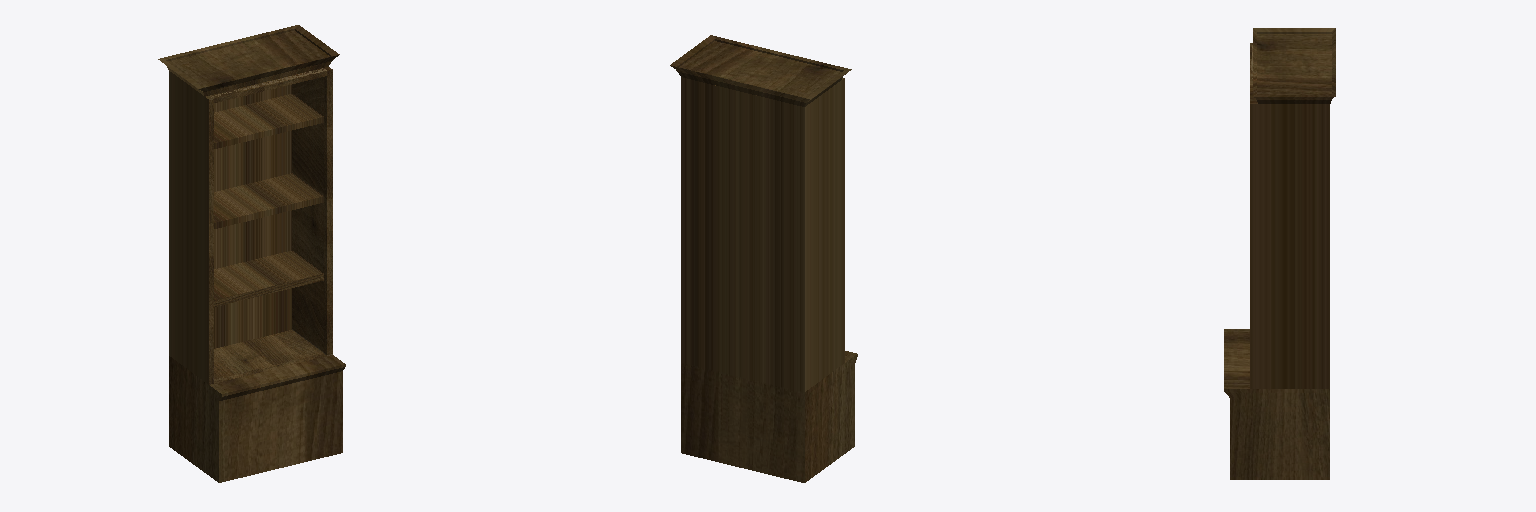
The picture shows the model from 3 angles: view 1: azimuth 30°, elevation 25°; view 2: azimuth 150°, elevation 25°; view 3: azimuth 270°, elevation 25°; orthographic projection.
Visible parts, largest first — view 1: pCube1; view 2: pCube1; view 3: pCube1.
Boxes of the visible parts, box(x1,y1,x2,y2) form: pCube1: box(158, 25, 345, 482); pCube1: box(670, 35, 857, 482); pCube1: box(1224, 28, 1335, 479).
Size of the model in its own units: 5.65 by 14.83 by 3.85.
1 materials, 1 textured.